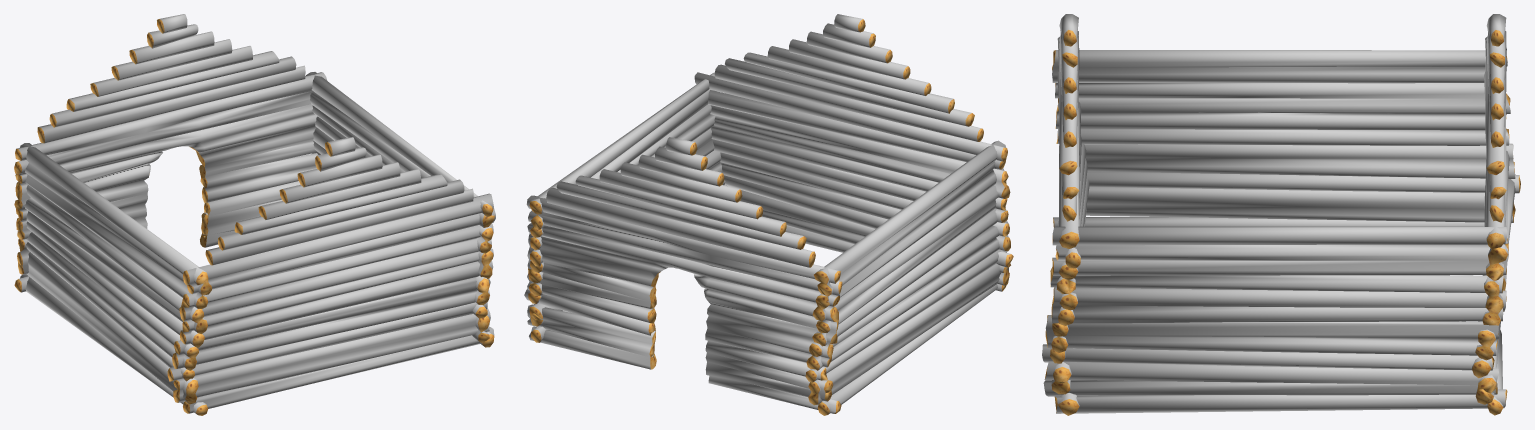
File: nechut.fbx
3 renders of one model, left to right at view 1: azimuth 30°, elevation 25°; view 2: azimuth 150°, elevation 25°; view 3: azimuth 270°, elevation 25°, orthographic. The views are drawn at different scales.
Parts seen in each view (by area): view 1: Cylinder; view 2: Cylinder; view 3: Cylinder.
Boxes of the visible parts, box(x1,y1,x2,y2) form: Cylinder: box(14, 14, 495, 415); Cylinder: box(524, 14, 1013, 415); Cylinder: box(1042, 14, 1520, 415).
Bounding box in the file's own units: 579 × 406 × 581.
